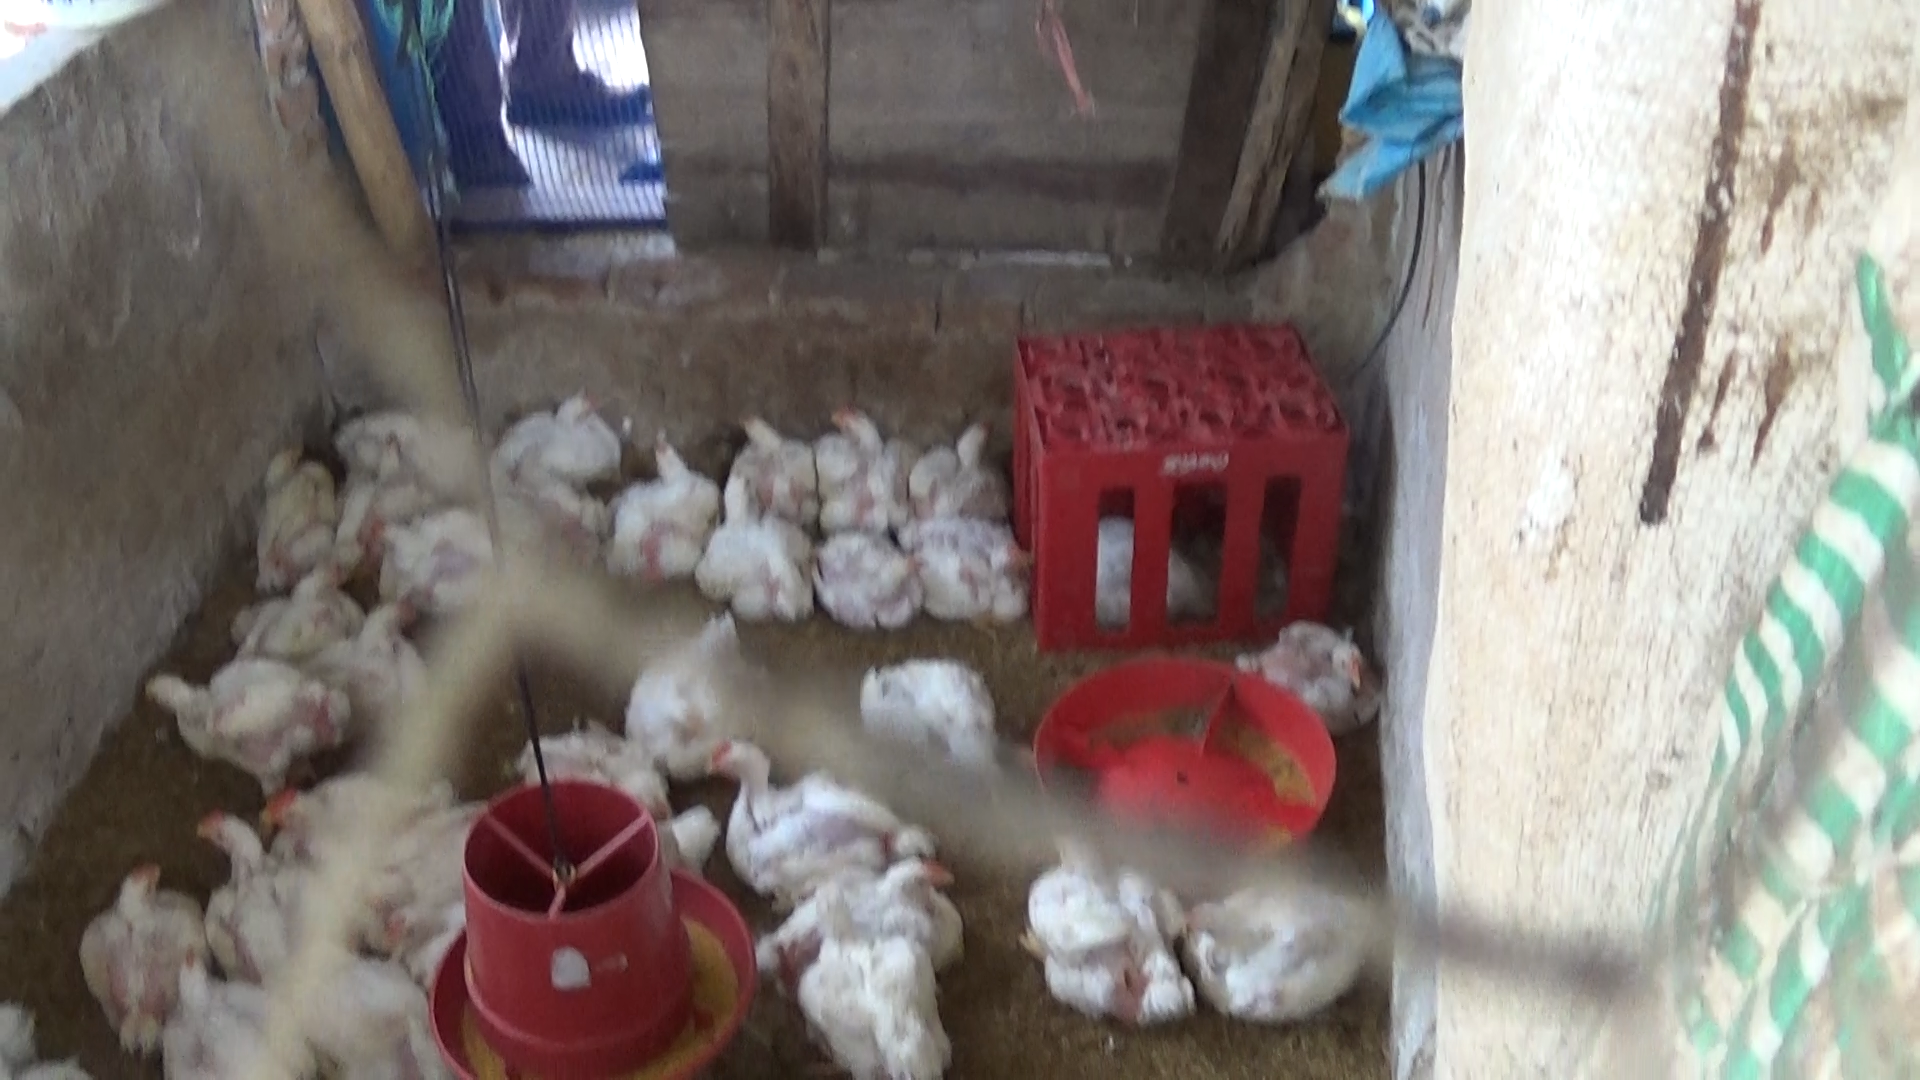Pollos: (1015, 822, 1205, 1029), (1178, 862, 1377, 1013), (796, 876, 953, 1065), (136, 653, 340, 787), (66, 858, 204, 1047), (709, 732, 899, 868), (255, 770, 469, 887), (622, 618, 789, 766), (761, 839, 971, 953), (186, 812, 336, 972), (856, 649, 1017, 789), (698, 454, 806, 624), (1246, 615, 1382, 731), (320, 585, 426, 735), (356, 491, 491, 601), (477, 382, 632, 479), (804, 522, 926, 636), (236, 558, 349, 676), (913, 508, 1025, 628), (804, 406, 924, 516), (327, 433, 423, 568), (589, 423, 719, 516), (251, 443, 338, 578), (727, 401, 820, 520), (899, 411, 1015, 505)
